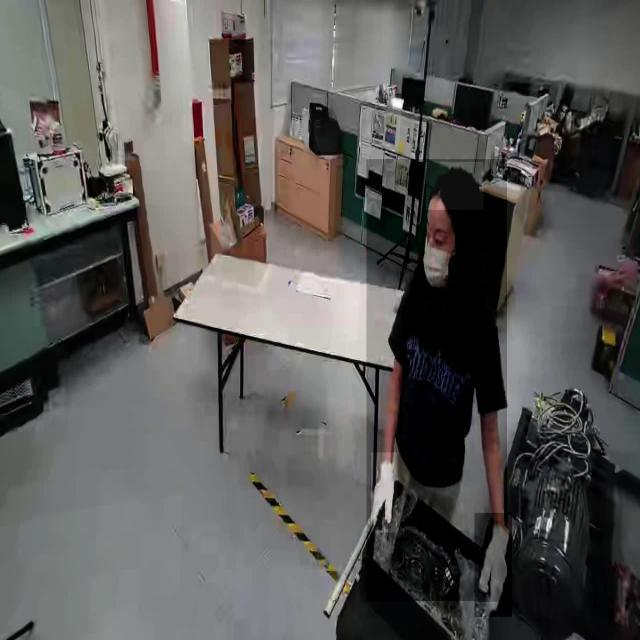gloves: (474, 513, 512, 618), (371, 452, 398, 534)
